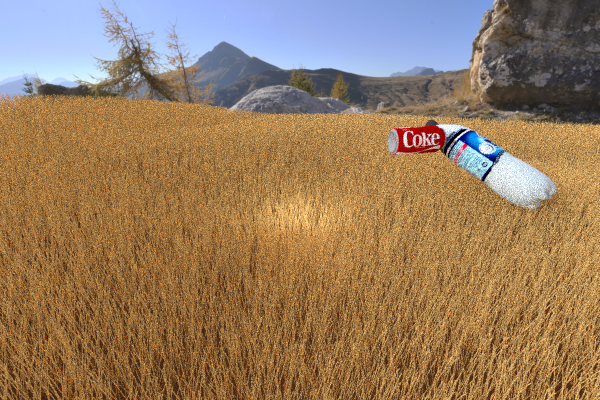bottle: (425, 119, 556, 209)
can: (387, 125, 446, 155)
